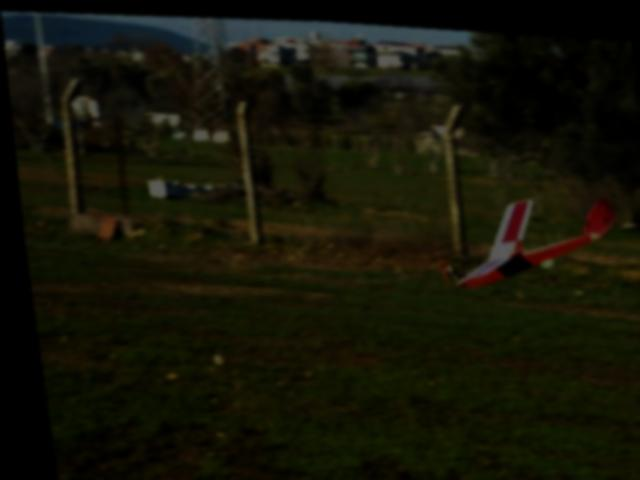iha: (404, 175, 638, 301)
